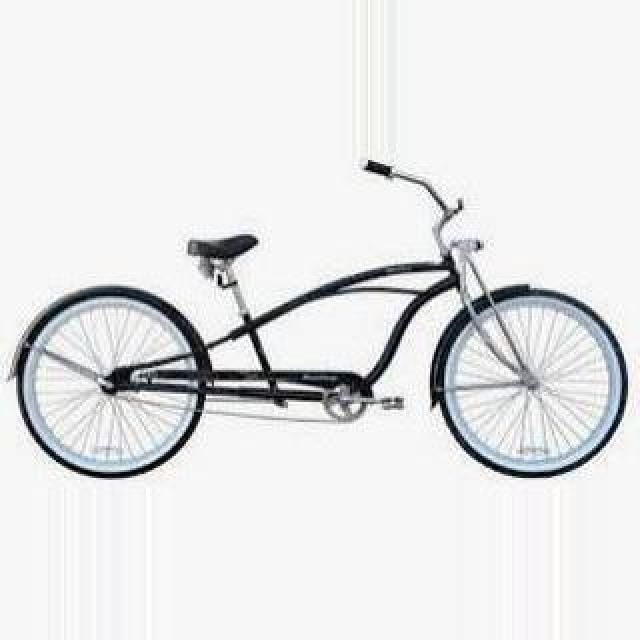Person: (6, 158, 628, 482)
